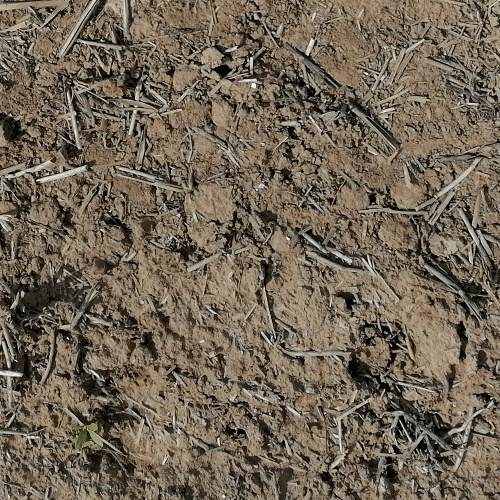beet: (73, 420, 103, 452)
